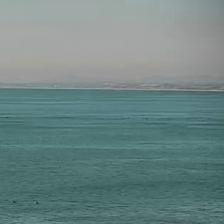surfer: (13, 200, 16, 204), (36, 201, 38, 204)
